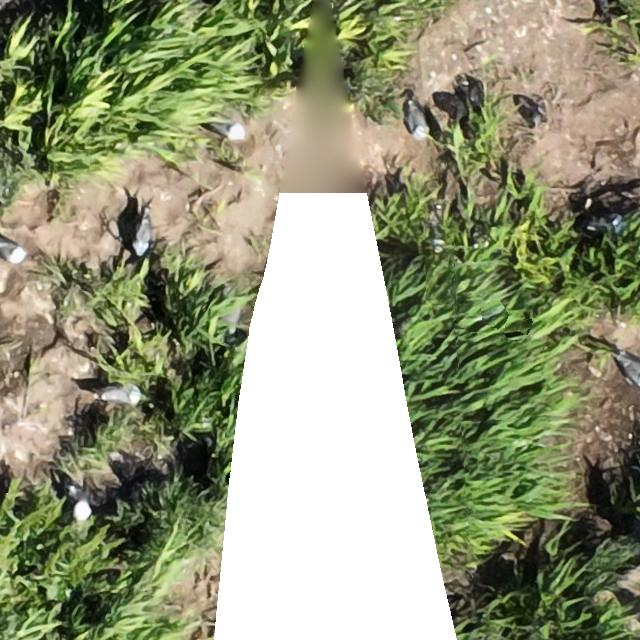umineko: (202, 110, 251, 140), (101, 386, 140, 406), (133, 218, 152, 256), (407, 105, 427, 138), (72, 489, 92, 521), (1, 238, 27, 262), (620, 357, 639, 388)
